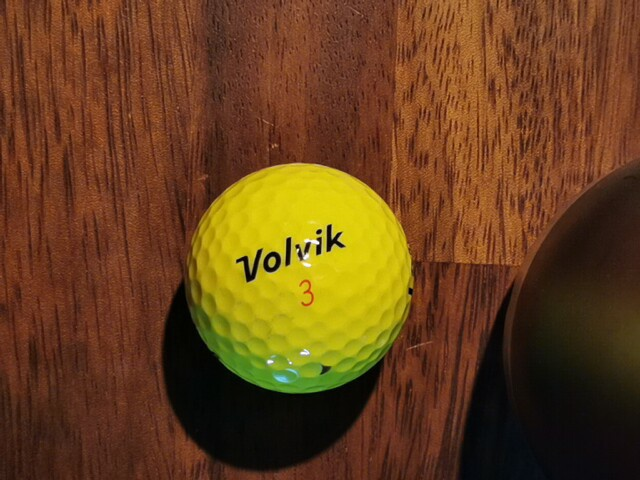Ball: (183, 161, 415, 394)
Volvik: (236, 224, 346, 284)
